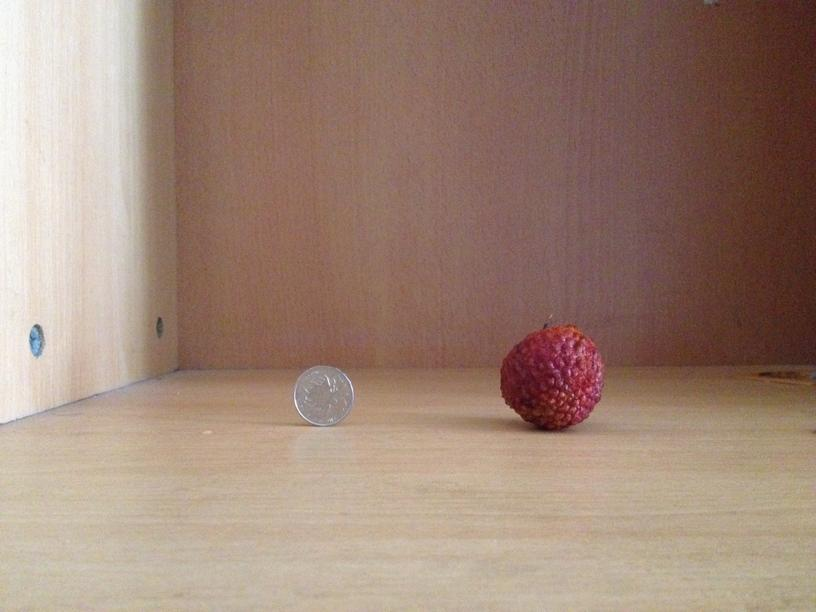coin: (296, 365, 352, 425)
litchi: (501, 325, 605, 430)
